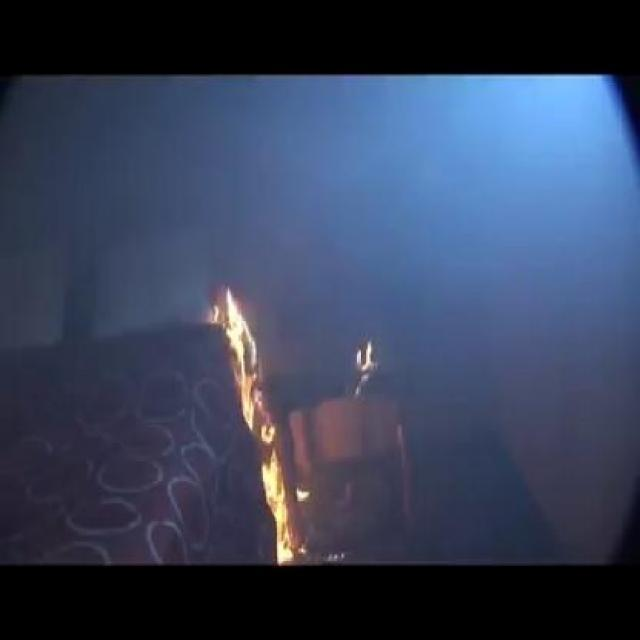fire: (202, 272, 351, 554)
